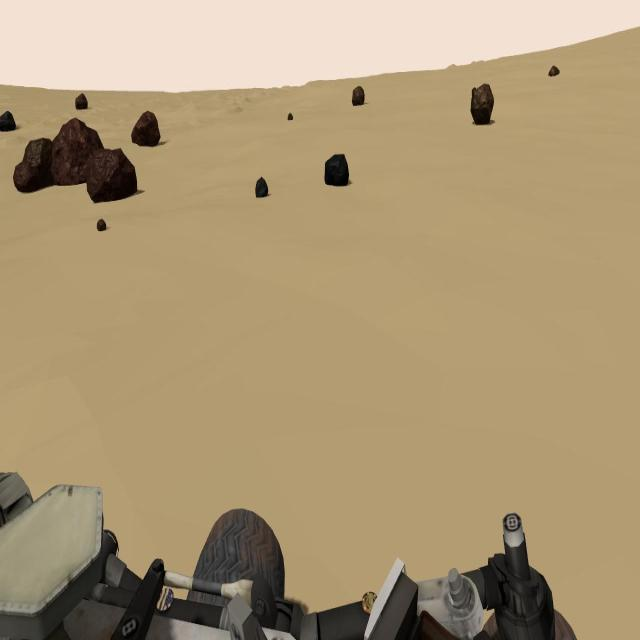rock: (52, 120, 104, 184), (87, 150, 137, 202), (23, 137, 54, 189), (132, 110, 161, 146), (471, 82, 494, 126), (324, 152, 348, 185), (13, 161, 34, 192), (0, 111, 15, 131), (255, 177, 268, 198), (352, 86, 364, 106), (75, 92, 88, 108), (548, 64, 559, 76), (96, 219, 105, 231), (287, 112, 293, 120)
